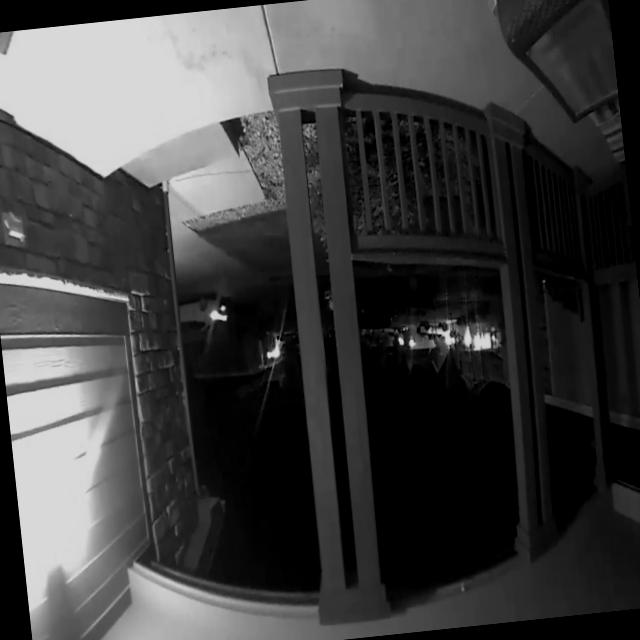car: (174, 260, 238, 352)
